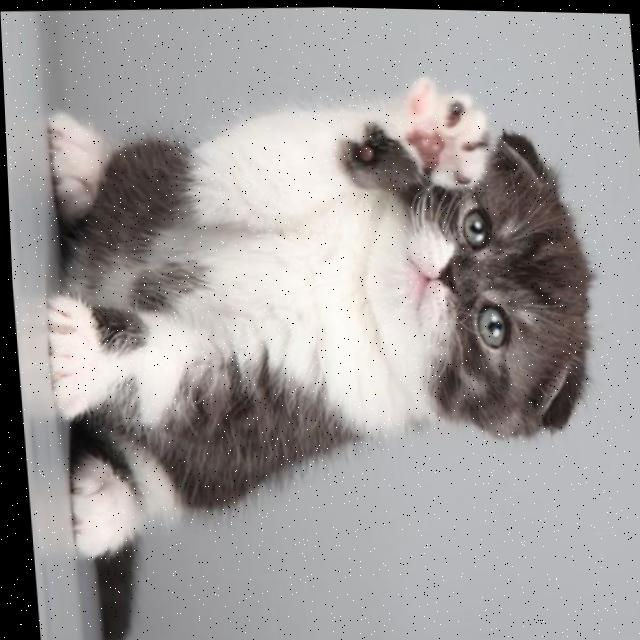Cats: (42, 73, 587, 558)
